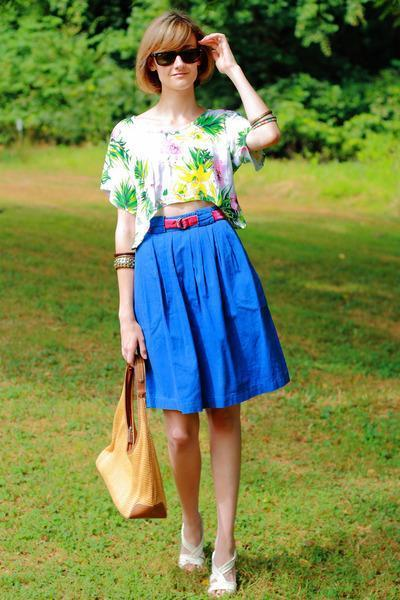bag: (96, 348, 166, 520)
shirt: (100, 108, 267, 227)
shoe: (178, 540, 234, 596)
skirt: (132, 208, 288, 413)
sunglass: (146, 36, 215, 77)
